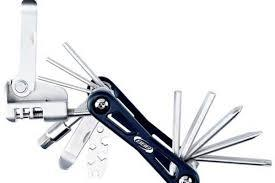wrench: (180, 102, 244, 159), (176, 88, 217, 157), (60, 39, 109, 92), (185, 128, 264, 158), (43, 55, 98, 89), (35, 74, 90, 93), (190, 154, 272, 166), (171, 88, 182, 157)
